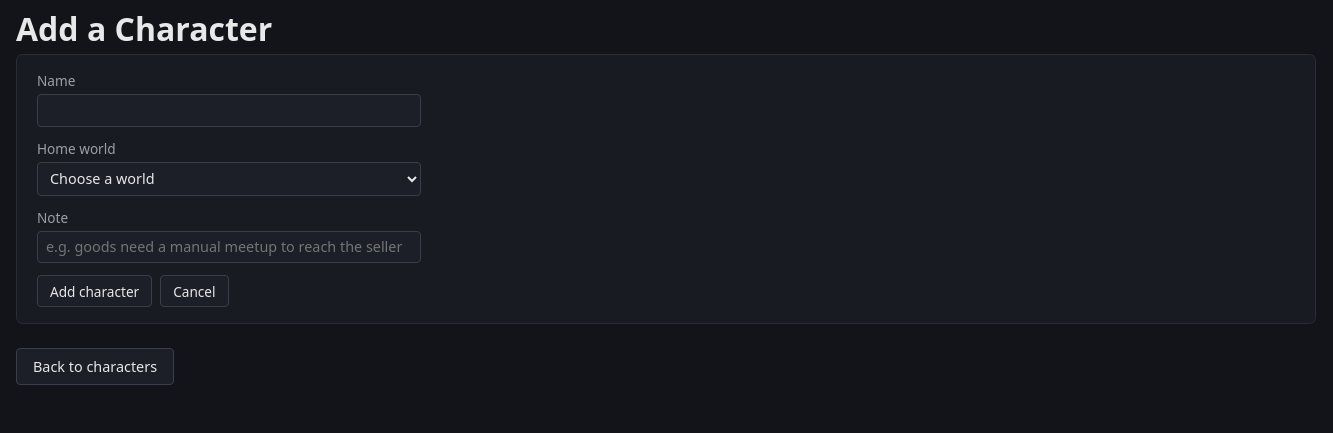
Test case: AddCharacterContainer › should stay put saying something went wrong when adding fails outright
Type "Alice" into the field labelled "Name" at (229, 110), box x1=37 y1=94 x2=421 y2=127
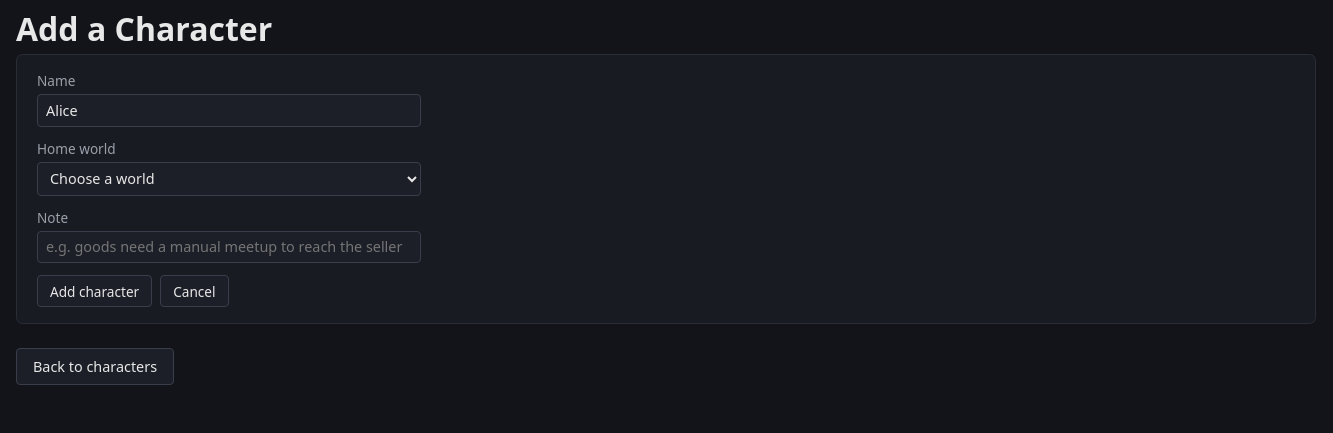
Select "Raiden" in the dropdown labelled "Home world" at (229, 179), box x1=37 y1=162 x2=421 y2=196
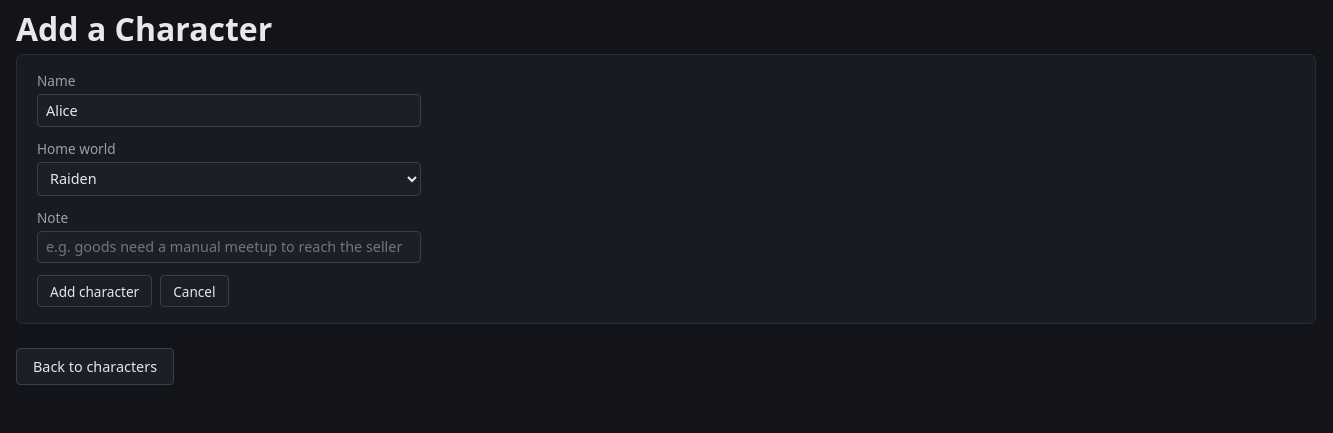
Click the button "Add character" at (95, 291), box x1=37 y1=275 x2=152 y2=307
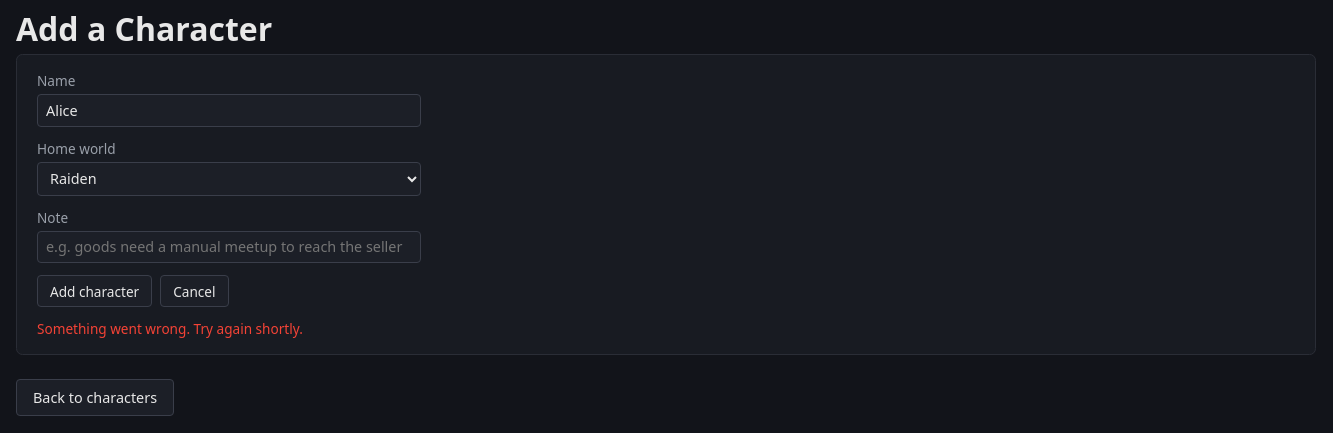
Now the message reads "Something went wrong. Try again shortly.", box x1=37 y1=319 x2=303 y2=338
